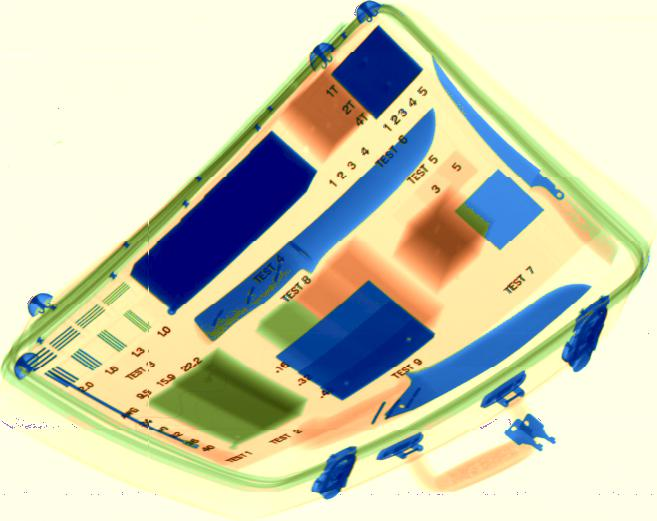Knife: (195, 109, 438, 344), (431, 58, 620, 267), (356, 280, 595, 434)
